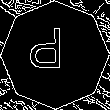P_S: (36, 29, 74, 81)
